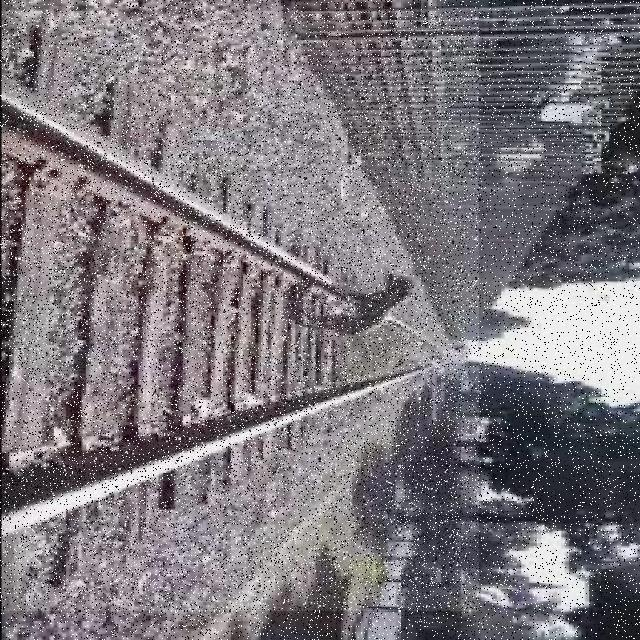rail: (1, 13, 480, 612)
